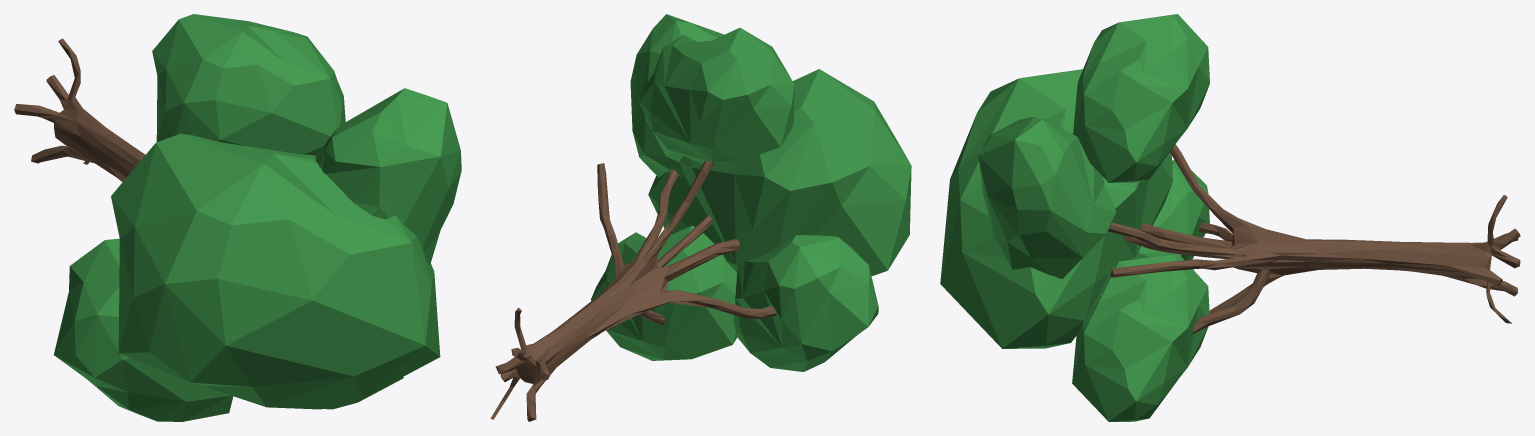
The model's file is tree4.fbx.
3 renders of one model, left to right at view 1: azimuth 30°, elevation 25°; view 2: azimuth 150°, elevation 25°; view 3: azimuth 270°, elevation 25°, orthographic. The views are drawn at different scales.
Parts seen in each view (by area): view 1: Group63488.006, Group63487.006, Group63476.006, Group63485.006, Tree6; view 2: Group63488.006, Group63487.006, Group63485.006, Tree6, Group63486.006, Group63476.006; view 3: Group63488.006, Tree6, Group63487.006, Group63486.006, Group63476.006, Group63485.006.
Part boxes in pixels (left/top/right/bottom): Group63488.006: left=111, top=133, right=440, bottom=409; Group63487.006: left=152, top=14, right=345, bottom=155; Group63476.006: left=315, top=88, right=461, bottom=265; Group63485.006: left=54, top=238, right=233, bottom=421; Tree6: left=14, top=38, right=145, bottom=181; Group63488.006: left=648, top=69, right=911, bottom=275; Group63487.006: left=638, top=27, right=794, bottom=163; Group63485.006: left=733, top=235, right=878, bottom=371; Tree6: left=490, top=161, right=776, bottom=421; Group63486.006: left=591, top=225, right=737, bottom=360; Group63476.006: left=630, top=14, right=723, bottom=177; Group63488.006: left=940, top=69, right=1172, bottom=348; Tree6: left=1108, top=144, right=1520, bottom=333; Group63487.006: left=1073, top=14, right=1209, bottom=182; Group63486.006: left=1072, top=253, right=1209, bottom=421; Group63476.006: left=978, top=117, right=1115, bottom=279; Group63485.006: left=1134, top=160, right=1209, bottom=260.
Size of the model in its own units: 2282 by 2579 by 3853.
